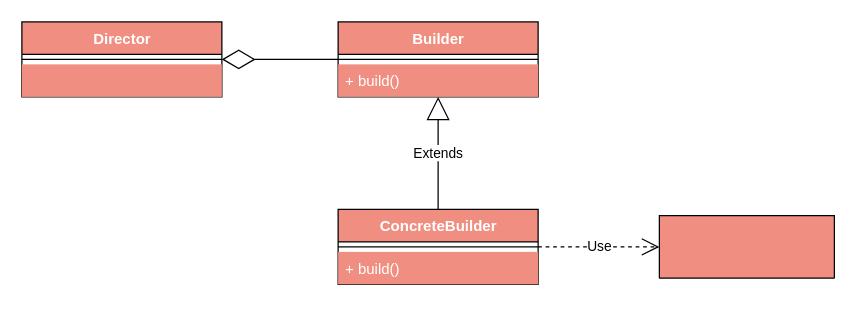
Some shapes in this 856 by 310 pixel diagram are drawn without their labels. Here are the shapes that lost their labels. From the top down, the centre of each, then its label:
pixel 121 80: + construct()
pixel 746 246: Product
